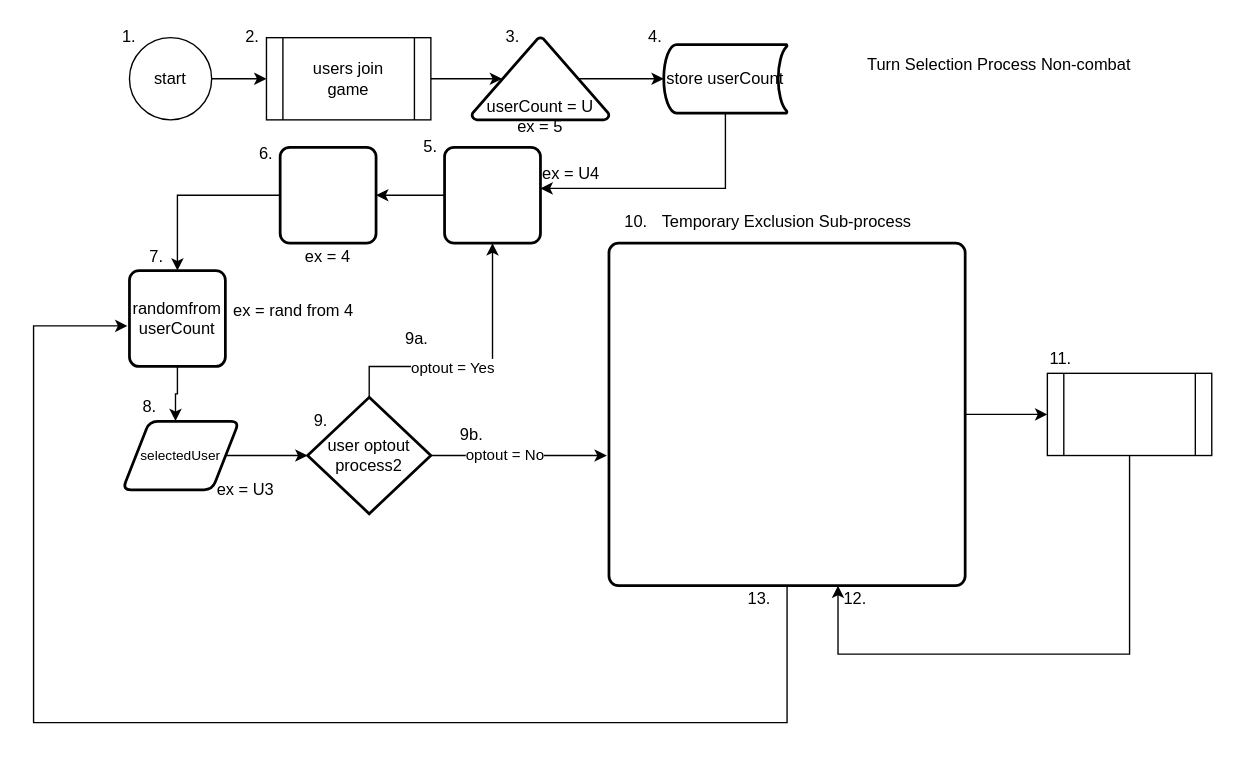
Some shapes in this 1236 by 758 pixel diagram are drawn without their labels. The shapes that lost their labels are listed below. From the top down, each one's centre as x and y in pixels, then its label:
At point (327, 194): "userCount - optout".
At point (492, 194): "user optout process".
At point (1129, 414): "user makes game decision".
